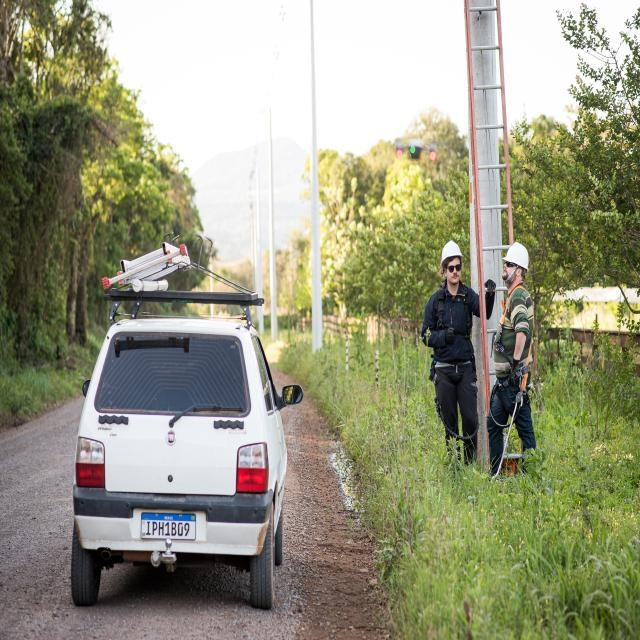Arnes_seguridad: (429, 283, 477, 395)
